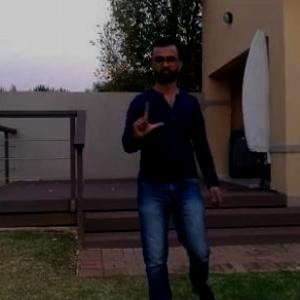land_hand: (128, 94, 168, 140)
